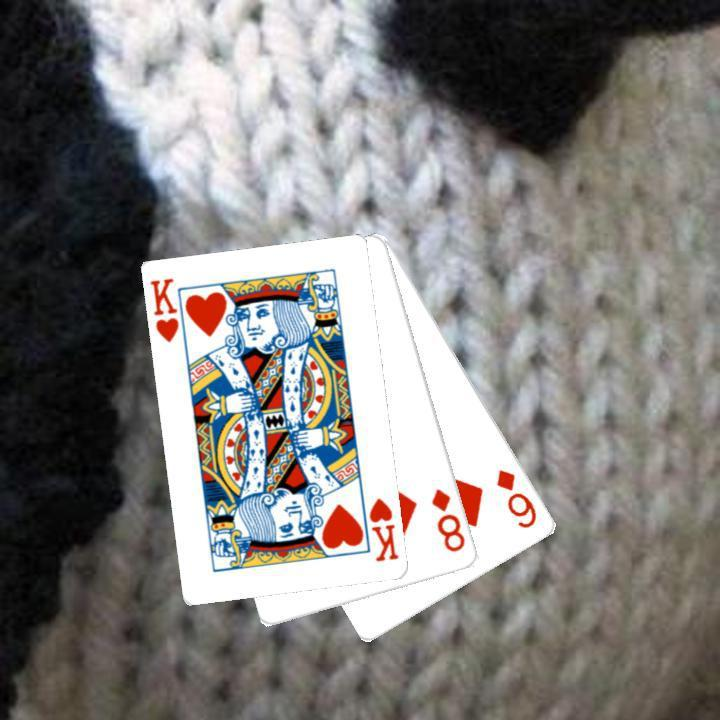6: (492, 465, 540, 531)
8: (427, 484, 468, 555)
K: (365, 494, 401, 564), (147, 273, 182, 345)
